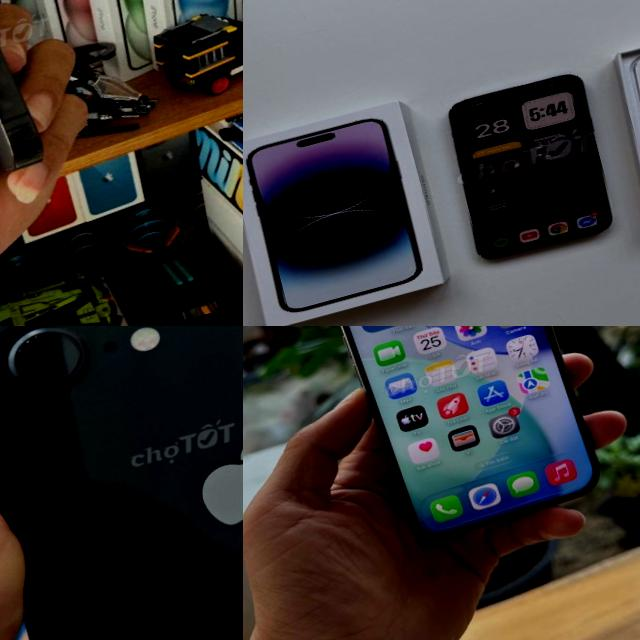scratch: (0, 326, 36, 388)
